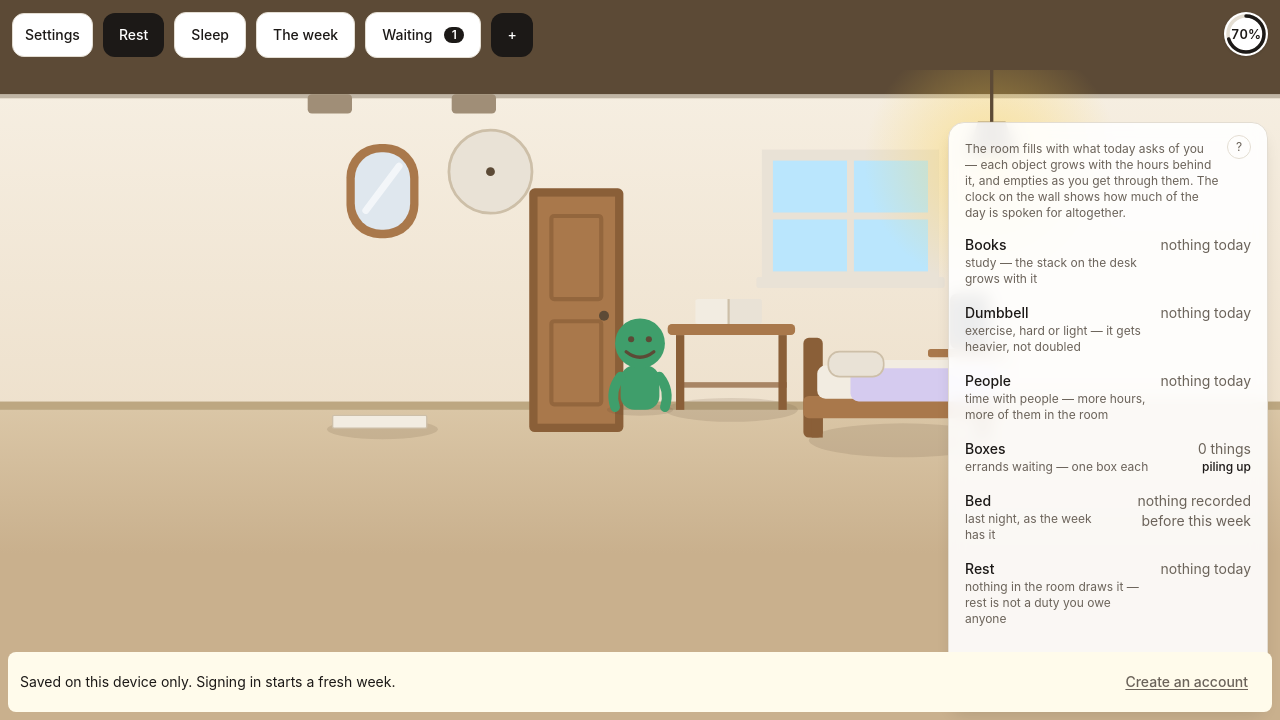
RoomShell with the room › reaches the five domain bars and the spoken summary through the gauge
Click the button with test id "room-gauge" at (1246, 34), box [1224, 12, 1268, 56]
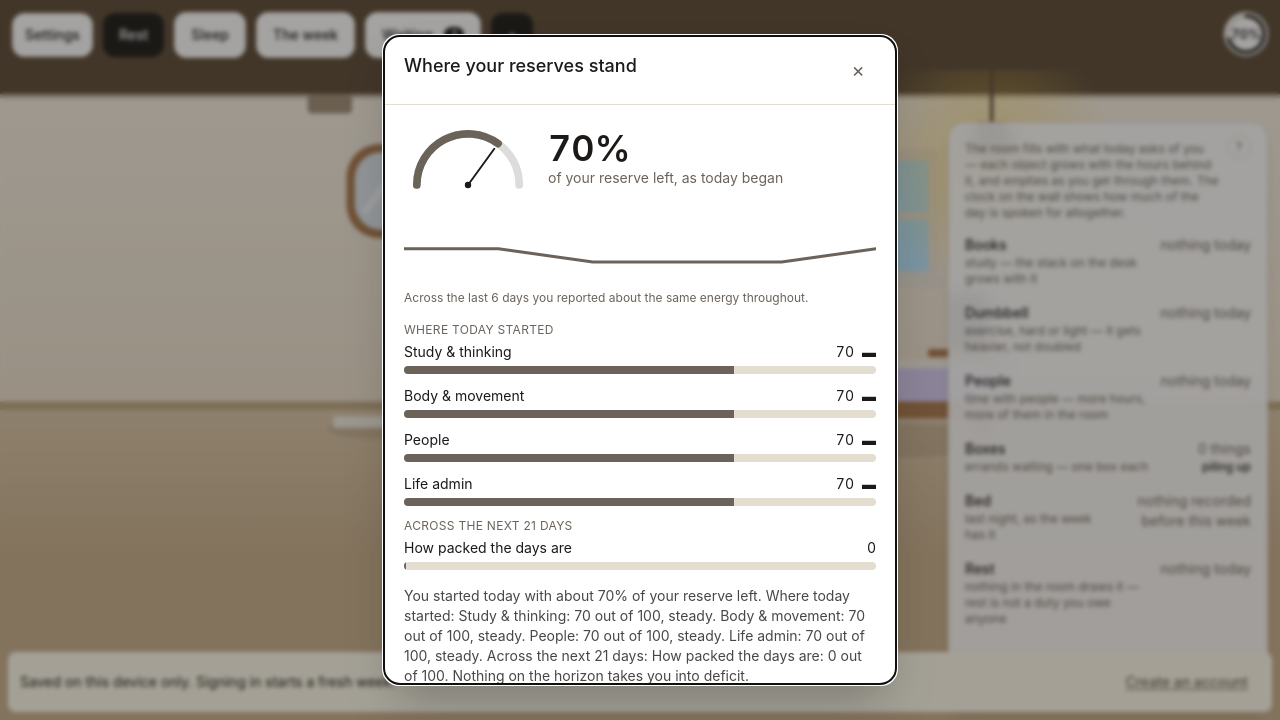
Result: the text with test id "reserve-text-equivalent" is shown at [404, 586, 876, 684]
